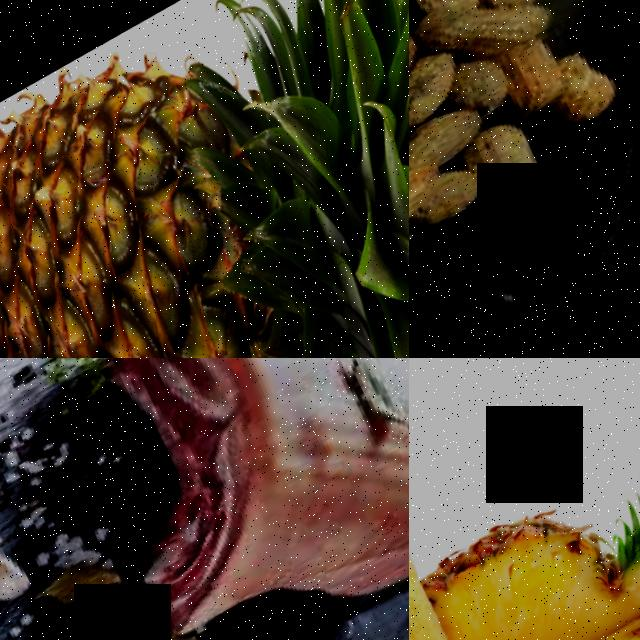peanuts: (454, 117, 567, 243), (451, 0, 562, 83), (409, 104, 495, 194), (553, 45, 630, 139), (409, 54, 476, 138), (409, 0, 476, 41), (409, 0, 431, 100)
pineapple: (0, 0, 409, 358), (413, 401, 640, 640), (409, 358, 512, 640)
pork belly: (45, 358, 378, 640)
